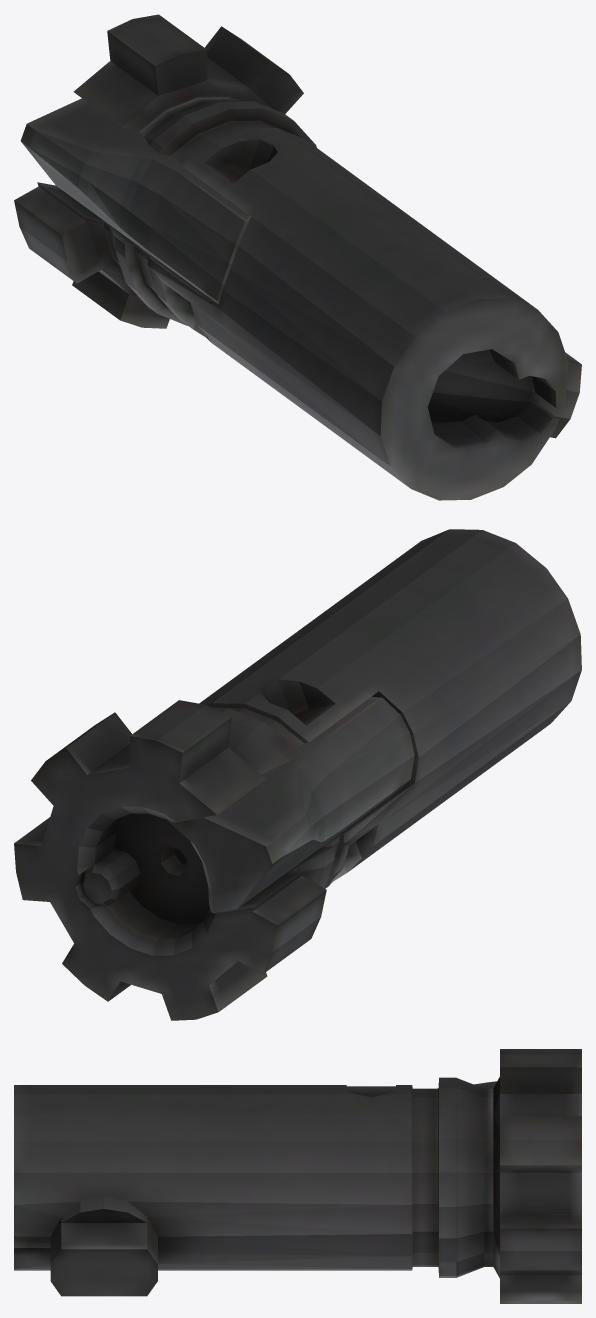
The picture shows the model from 3 angles, top to bottom: view 1: azimuth 30°, elevation 25°; view 2: azimuth 150°, elevation 25°; view 3: azimuth 270°, elevation 25°; orthographic projection. The views are drawn at different scales.
Parts seen in each view (by area): view 1: TW_5bd70322209c4d00d7167b8f_PZ_Import; view 2: TW_5bd70322209c4d00d7167b8f_PZ_Import; view 3: TW_5bd70322209c4d00d7167b8f_PZ_Import.
Part boxes in pixels (x1,y1,x2,y2): TW_5bd70322209c4d00d7167b8f_PZ_Import: (14, 14, 581, 500); TW_5bd70322209c4d00d7167b8f_PZ_Import: (14, 529, 581, 1020); TW_5bd70322209c4d00d7167b8f_PZ_Import: (14, 1049, 581, 1303).
Bounding box in the file's own units: 0.0105 × 0.0229 × 0.0103.
Materials: 1 (1 with a texture image).
